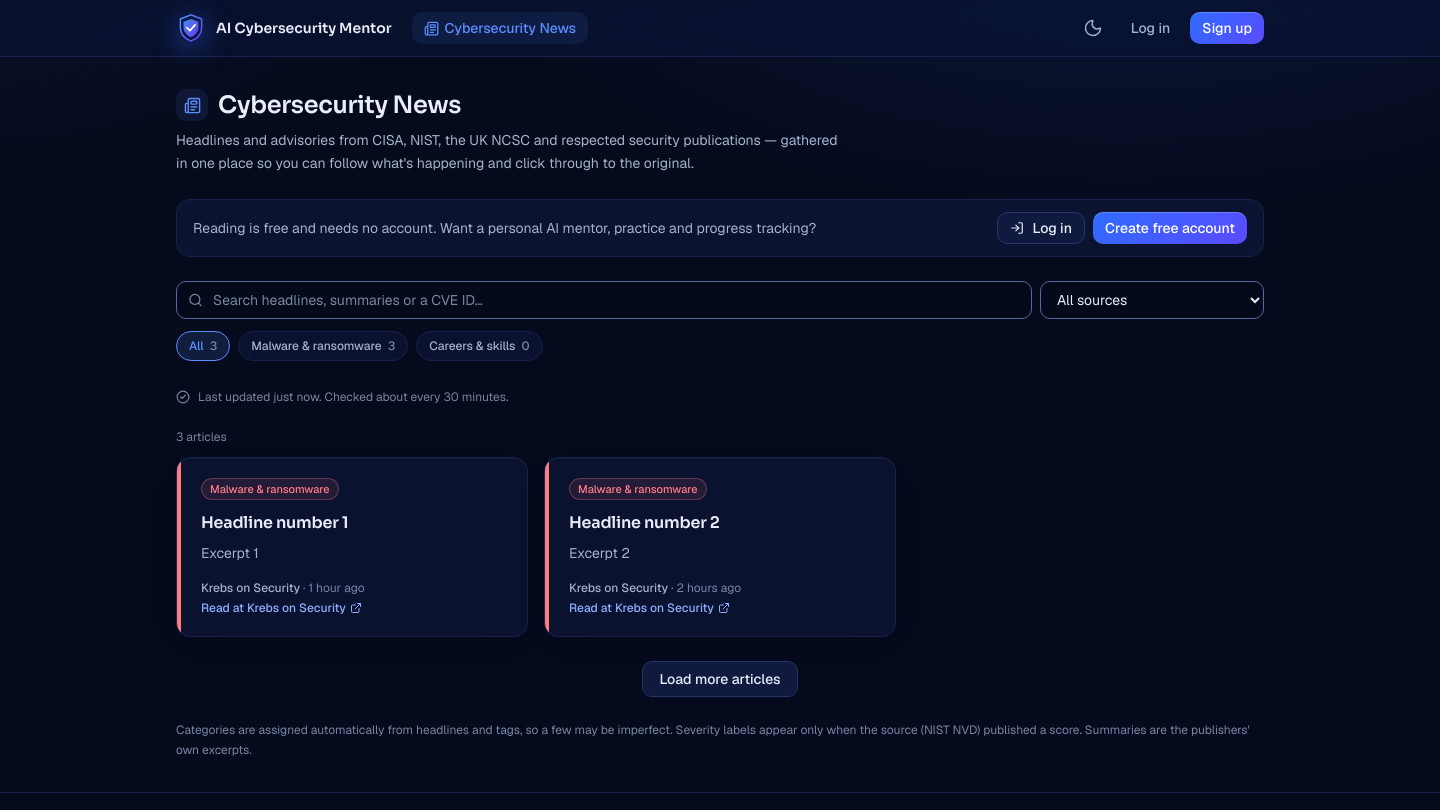
Test: news page states (real page, faked network) › loads more articles and appends them without duplicates
The width and height of the screenshot is (1440, 810).
Click the button "Load more articles" at (720, 679), box [642,661,798,697]
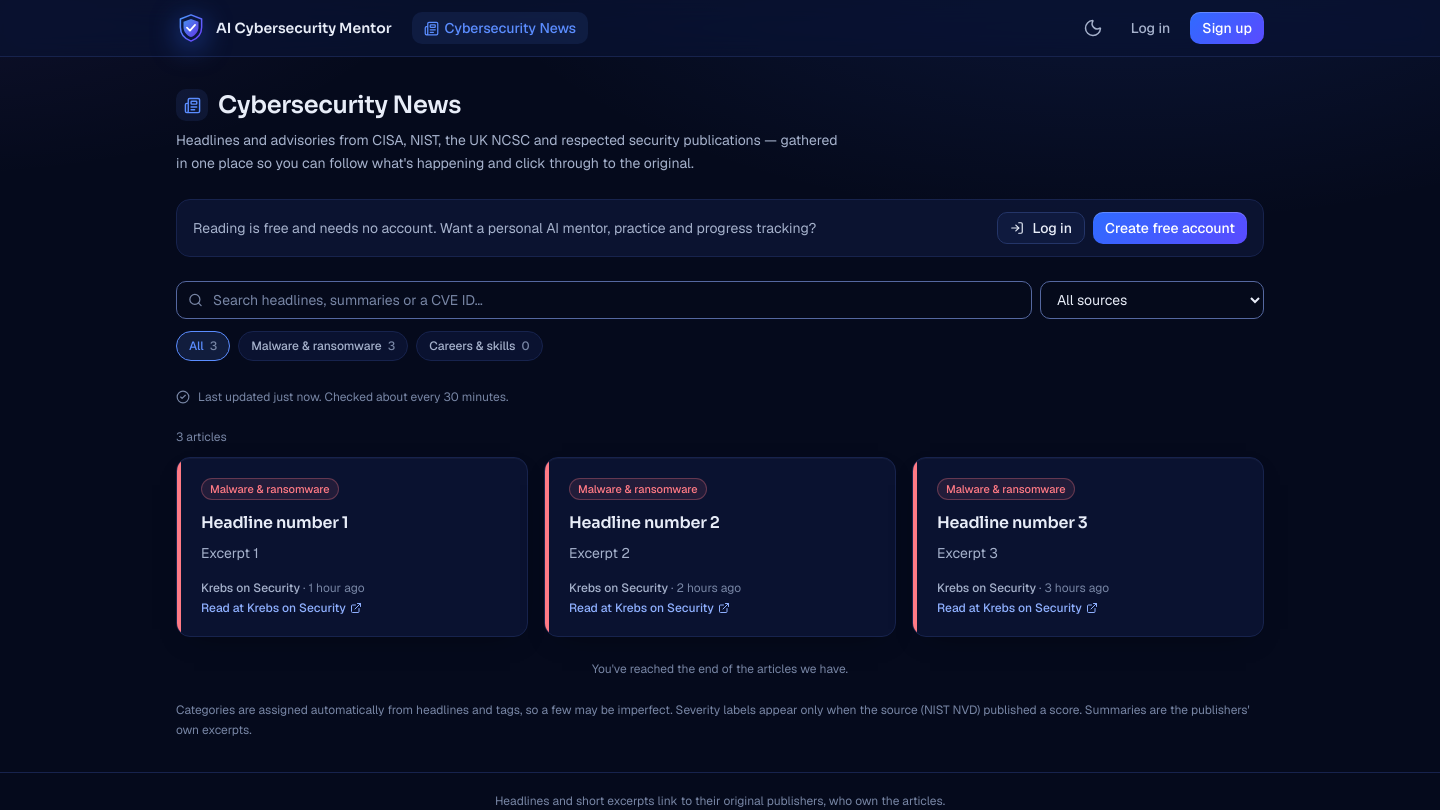
expect the text "reached the end" is shown: met, box [592,661,848,677]
